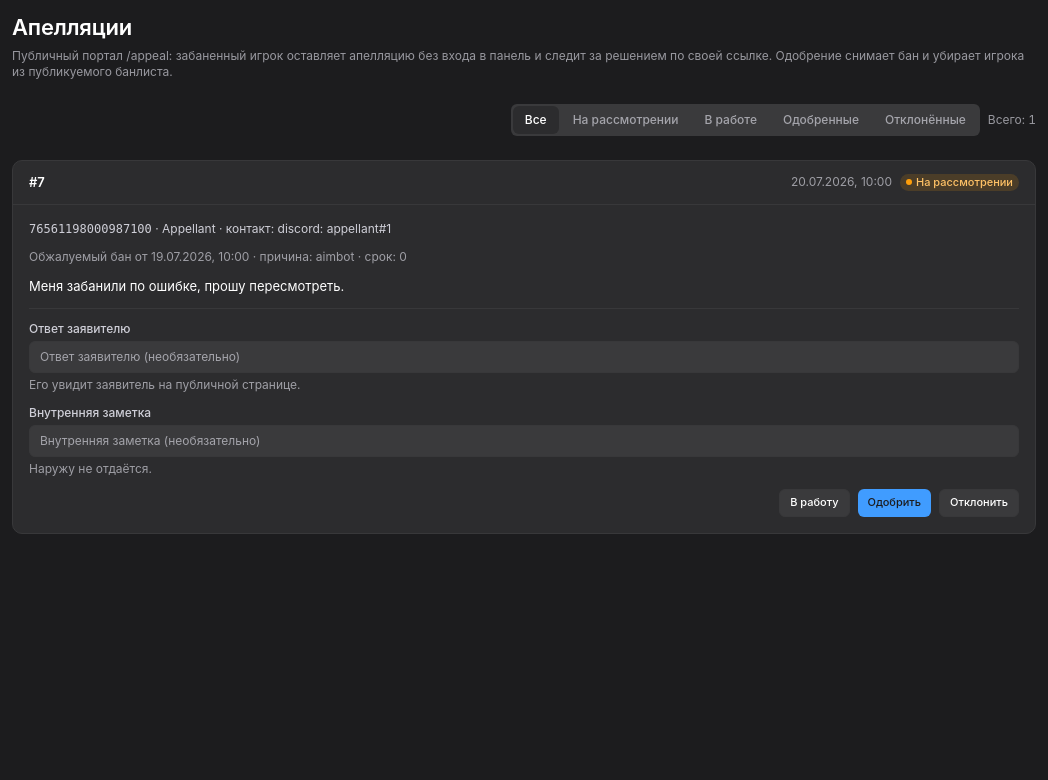
Test: AppealsBrowser › surfaces a Russian message for a known error code when a decision fails (#491)
Expected: the heading "#7" is shown, 29,173 -> 45,192
What coordinates should you click on to do the following:
click the button "Одобрить"
I would click on:
 (894, 503)
Its box is 858,489 -> 931,517.
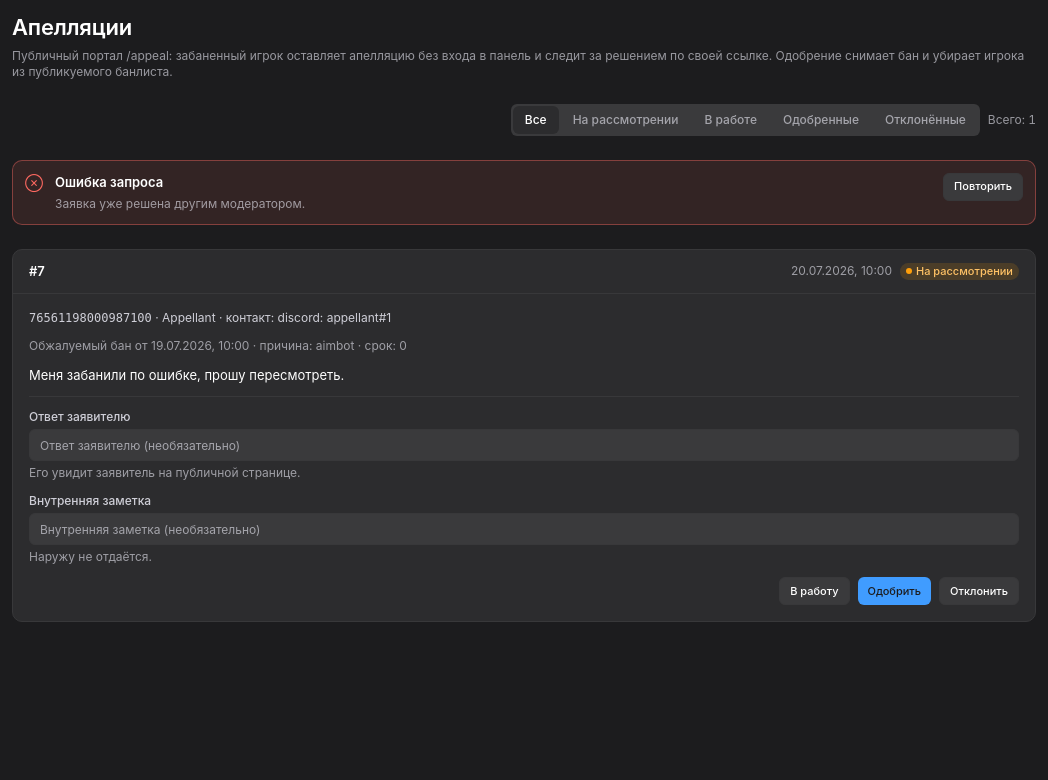
Expected: the text "Заявка уже решена другим модератором." is shown, 55,196 -> 305,211
